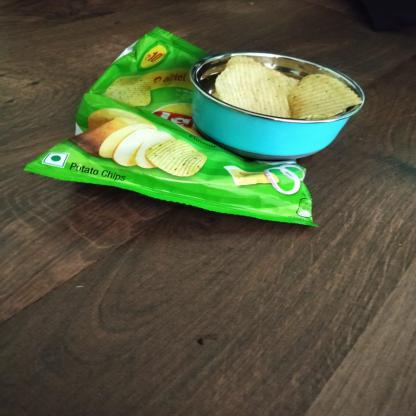cream_and_onion: (23, 27, 317, 226)
